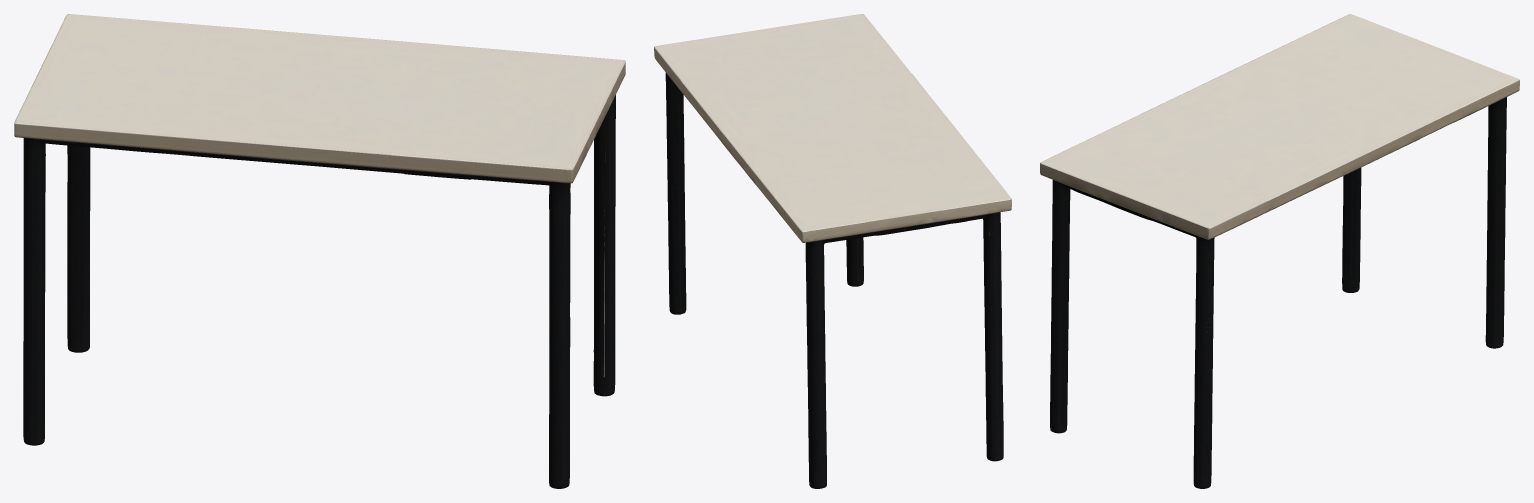
The model's file is light-colored_wooden_table_in_back_row_(right)_000.glb.
3 renders of one model, left to right at view 1: azimuth 30°, elevation 25°; view 2: azimuth 150°, elevation 25°; view 3: azimuth 270°, elevation 25°, orthographic. The views are drawn at different scales.
Visible parts, largest first — view 1: phase2_final_light-colored_wooden_table_in_back_row_(right)_; view 2: phase2_final_light-colored_wooden_table_in_back_row_(right)_; view 3: phase2_final_light-colored_wooden_table_in_back_row_(right)_.
Part boxes in pixels (x1,y1,x2,y2): phase2_final_light-colored_wooden_table_in_back_row_(right)_: [14, 14, 625, 488]; phase2_final_light-colored_wooden_table_in_back_row_(right)_: [654, 14, 1011, 488]; phase2_final_light-colored_wooden_table_in_back_row_(right)_: [1040, 14, 1519, 488].
Bounding box in the file's own units: 0.6769 × 0.4036 × 0.6464.
Materials: 1 (1 with a texture image).
